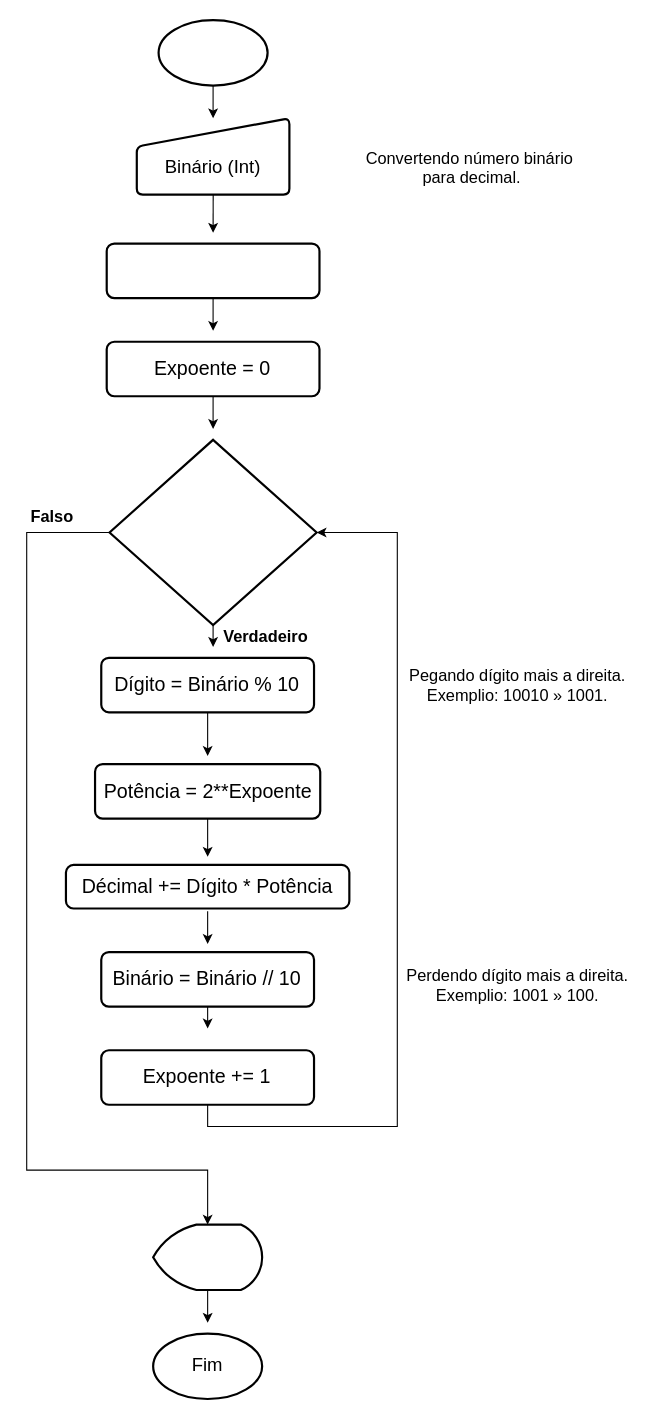
Some shapes in this 656 by 1418 pixel diagram are drawn without their labels. The centre of each missing label's shape, as x and y in pixels:
"Binário > 0" belongs at (x=212, y=532).
"Décimal" belongs at (x=207, y=1257).
"Décimal = 0" belongs at (x=212, y=270).
"Início" belongs at (x=212, y=52).
